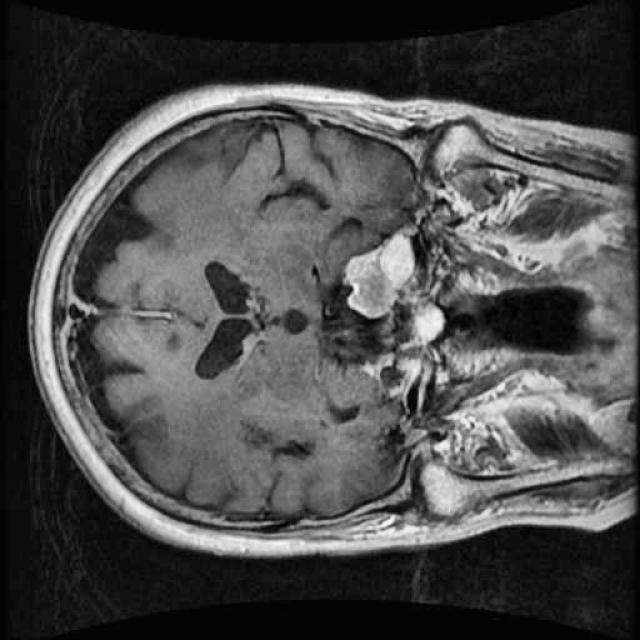Tumor: (328, 225, 430, 326)
